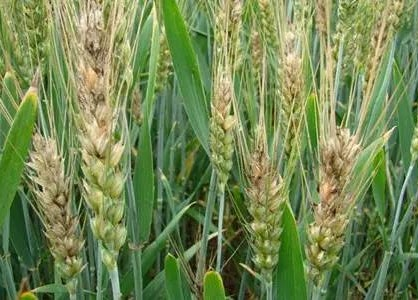Wheat scab: (29, 134, 83, 276), (243, 142, 286, 268), (205, 66, 239, 189)
